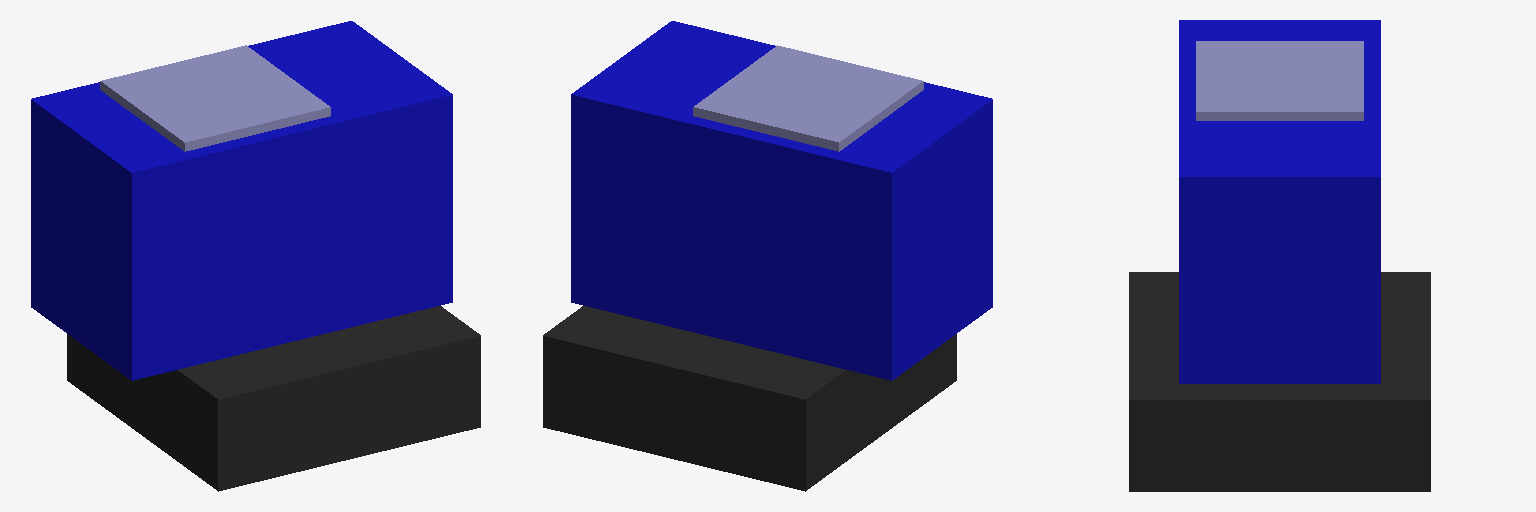
The robot description file, URDF, robot "vega":
<!--<robot name="test_robot">-->
<robot name="vega">

  <link name="link1">
  <inertial>
    <mass value="0.2"/>
    <inertia ixx="100" ixy="0" ixz="0" iyy="100" iyz="0" izz="100" />
    <origin/>
  </inertial>
  <visual>
    <origin xyz="0.00 0.00 0.015" rpy="0 0 0" />
    <geometry>
      <box size="0.09 0.09 0.03" />
    </geometry>
    <material name="gray">
      <color rgba=".2 .2 .2 1" />
    </material>
  </visual>
  </link>


  <link name="spinner">
  <inertial>
    <mass value="0.2"/>
    <inertia ixx="100" ixy="0" ixz="0" iyy="100" iyz="0" izz="100" />
    <origin/>
  </inertial>
  <visual>
    <origin xyz="-0.011 0.0 0.034" rpy="0 0 0" />
    <geometry>
      <box size="0.11 0.06 0.068" />
    </geometry>
    <material name="blue">
      <color rgba=".1 .1 .8 1" />
    </material>
  </visual>
  </link>


  <link name="recon_lidar">
  <inertial>
    <mass value="0.2"/>
    <inertia ixx="100" ixy="0" ixz="0" iyy="100" iyz="0" izz="100" />
    <origin/>
  </inertial>
  <visual>
    <origin xyz="0.00 0.0 0.0" rpy="0 0 0" />
    <geometry>
      <box size="0.06 0.05 0.05" />
    </geometry>
    <material name="lightGray">
      <color rgba=".6 .6 .8 6" />
    </material>
  </visual>
  </link>

  <joint name="recon_joint" type="continuous">
    <parent link="link1"/>
    <child link="spinner"/>
    <origin xyz="0 0 0.035" rpy="0 0 0" />
    <axis xyz="0.0 0.0 1.0" />
  </joint>

  <joint name="spinner_lidar" type="fixed">
    <parent link="spinner"/>
    <child link="recon_lidar"/>
    <origin xyz="-0.02 0 0.041" rpy="0 -1.57 -1.57" />
    <axis xyz="0.0 0.0 1.0" />
  </joint>

</robot>

--- Facts derived from the render (not from the file) ---
Views: 3 orthographic renders of the robot side by side, from view 1: azimuth 30°, elevation 25°; view 2: azimuth 150°, elevation 25°; view 3: azimuth 270°, elevation 25°.
Robot: vega — 3 links, 2 joints (1 continuous, 1 fixed); root link link1; default pose: all joints at 0.
Links seen in each view (by area): view 1: spinner, link1, recon_lidar; view 2: spinner, link1, recon_lidar; view 3: spinner, link1, recon_lidar.
Link boxes in pixels (<box>): spinner: <box>31,21,452,380</box>; link1: <box>67,306,480,491</box>; recon_lidar: <box>100,45,330,151</box>; spinner: <box>571,21,992,380</box>; link1: <box>543,306,956,491</box>; recon_lidar: <box>693,45,923,151</box>; spinner: <box>1179,20,1380,383</box>; link1: <box>1129,272,1430,491</box>; recon_lidar: <box>1196,41,1363,120</box>.
Bounding box of the posed robot: 0.111 × 0.09 × 0.106 m (x, y, z).
Geometry: primitives only (box / cylinder / sphere), no mesh files.